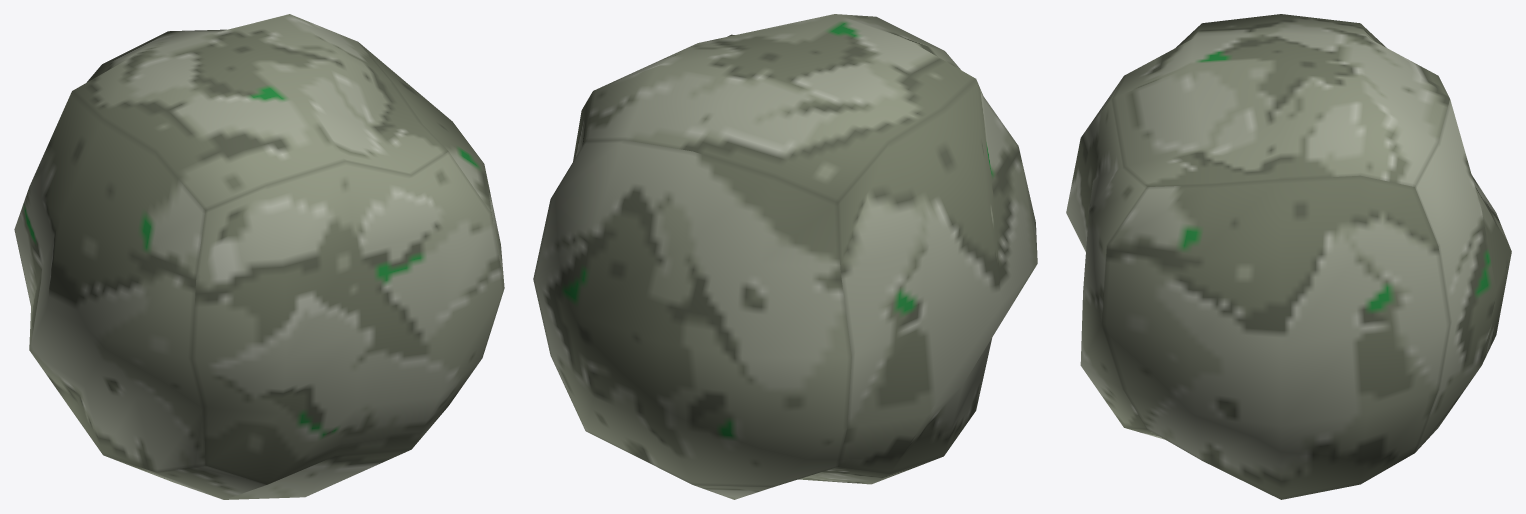
Rendered from Boulder.fbx.
3 renders of one model, left to right at view 1: azimuth 30°, elevation 25°; view 2: azimuth 150°, elevation 25°; view 3: azimuth 270°, elevation 25°, orthographic. The views are drawn at different scales.
Visible parts, largest first — view 1: Boulder; view 2: Boulder; view 3: Boulder.
Boxes of the visible parts, x1,y1,x2,y2 form: Boulder: (14,14,504,499); Boulder: (533,14,1037,499); Boulder: (1066,14,1511,499).
Size of the model in its own units: 17.57 by 16.75 by 16.98.
